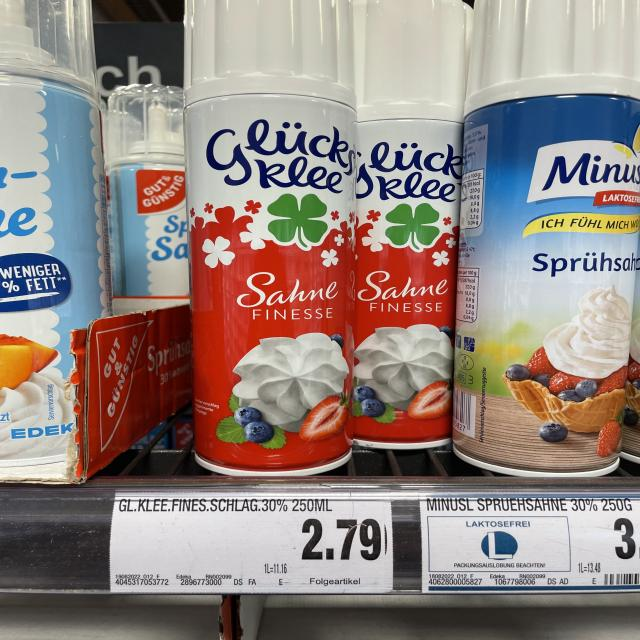cream: (453, 0, 640, 477), (184, 0, 356, 476), (353, 0, 472, 450), (0, 0, 110, 469), (104, 84, 189, 297)
